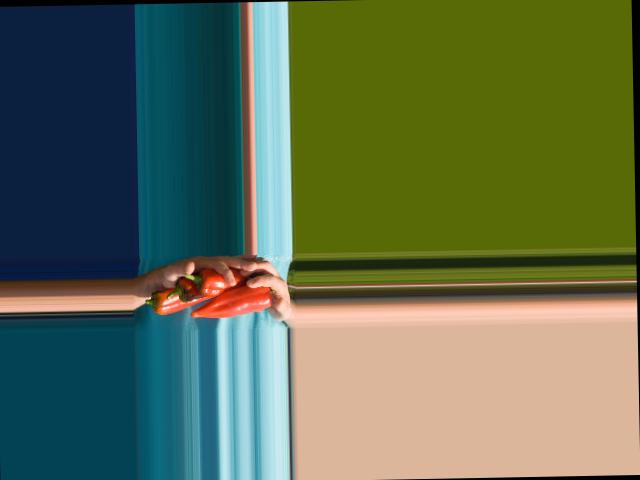bell_pepper: (144, 285, 198, 315)
